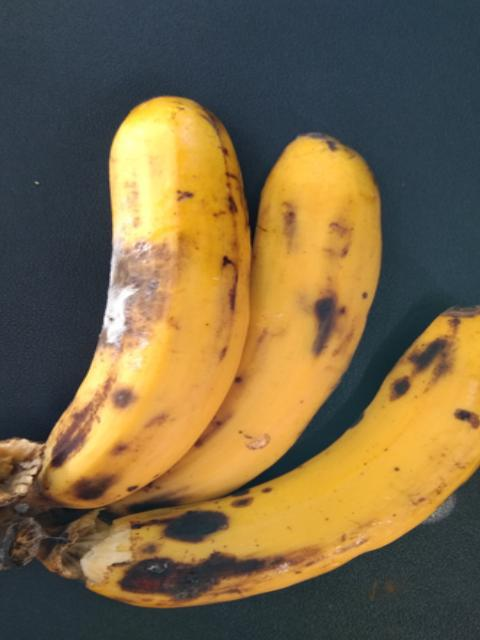overripe: (65, 301, 479, 614), (0, 62, 258, 521), (187, 94, 404, 450)
rotten: (51, 225, 195, 400)
